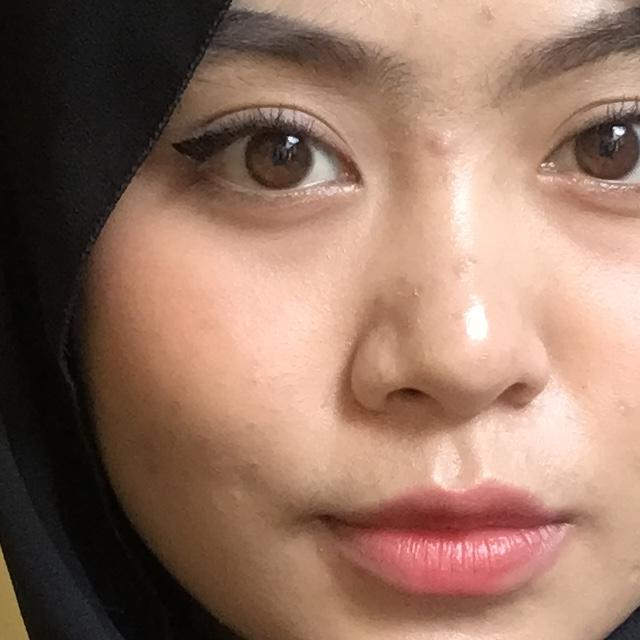kapan: (0, 386, 360, 640)
